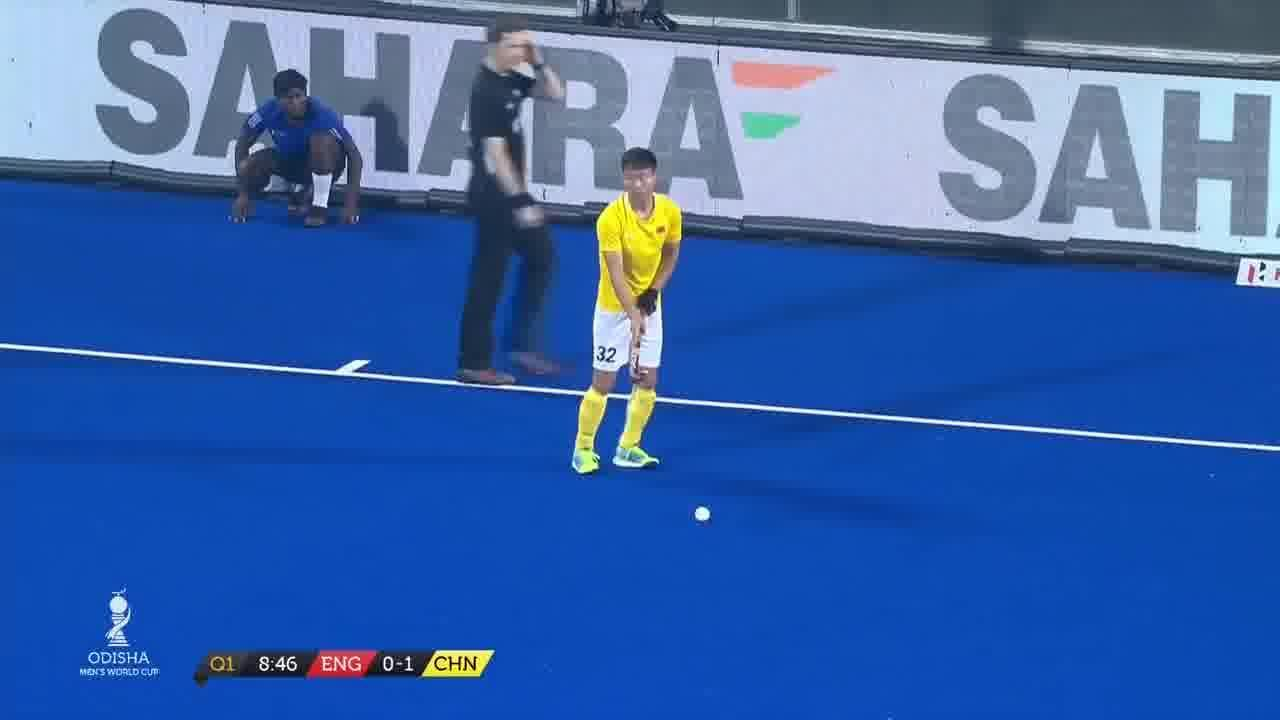ball: (689, 498, 723, 527)
